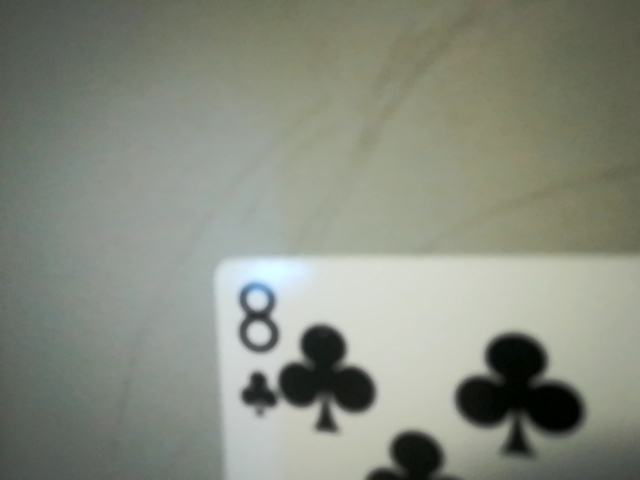mh 8: (219, 273, 292, 419)
